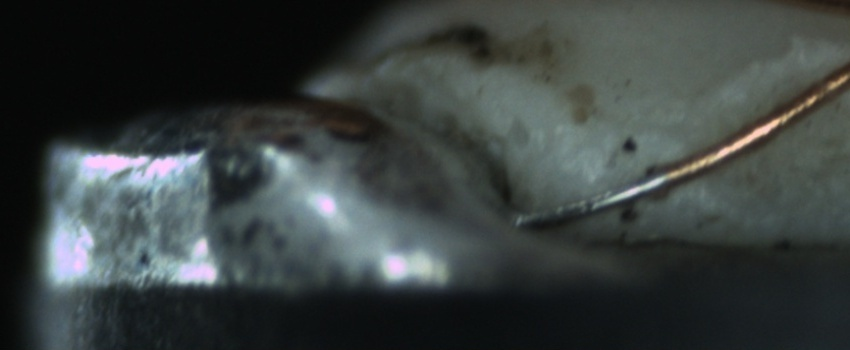TS: (514, 168, 659, 226)
